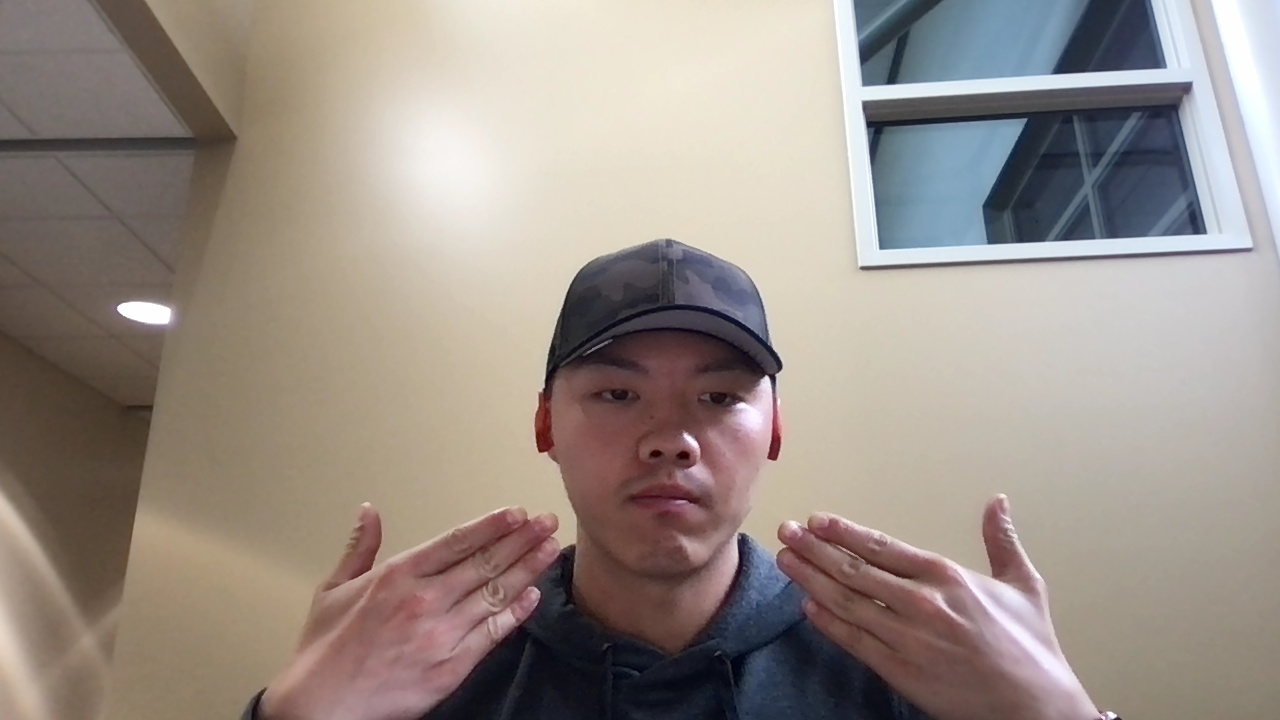Thank You: (302, 490, 1091, 714)
